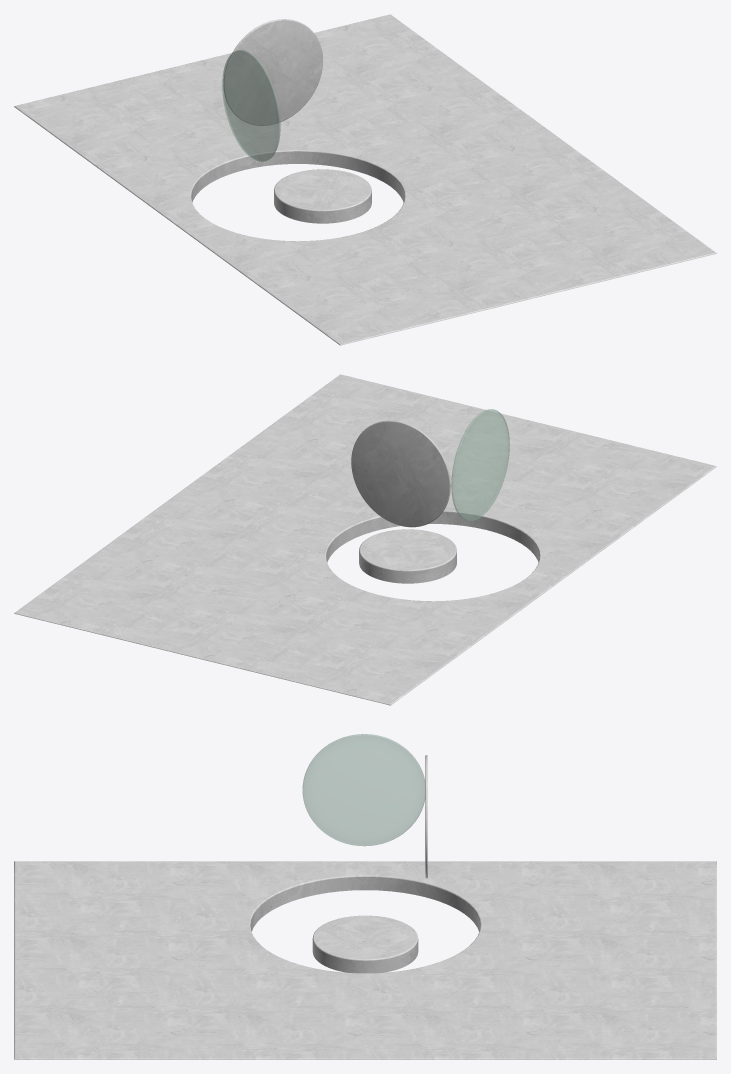
File: B_Tranquility_Platform_05.glb
3 renders of one model, top to bottom at view 1: azimuth 30°, elevation 25°; view 2: azimuth 150°, elevation 25°; view 3: azimuth 270°, elevation 25°, orthographic. The views are drawn at different scales.
Parts seen in each view (by area): view 1: Plane, Circle_01, Circle_02, mid_island.001; view 2: Plane, Circle_01, Circle_02, mid_island.001; view 3: Plane, Circle_02, mid_island.001.
Boxes of the visible parts, x1,y1,x2,y2 form: Plane: (14, 14, 716, 345); Circle_01: (224, 19, 322, 125); Circle_02: (222, 50, 280, 161); mid_island.001: (274, 169, 371, 223); Plane: (14, 374, 716, 705); Circle_01: (351, 420, 450, 527); Circle_02: (451, 409, 509, 521); mid_island.001: (359, 529, 456, 583); Plane: (14, 861, 716, 1059); Circle_02: (302, 734, 425, 846); mid_island.001: (312, 915, 418, 973).
Size of the model in its own units: 4 by 1.69 by 6.
Materials: 2 (2 with a texture image).
